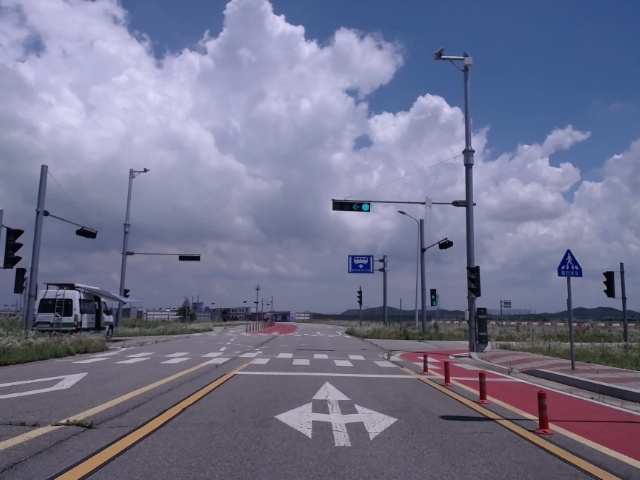all_green_4: (333, 198, 372, 210)
